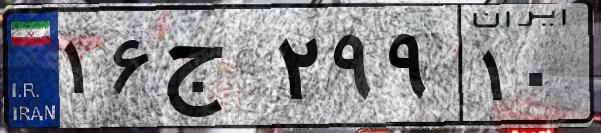0: (525, 38, 570, 115)
1: (57, 26, 110, 100), (475, 38, 525, 113)
2: (270, 28, 330, 110)
6: (110, 28, 158, 98)
9: (385, 28, 445, 110), (330, 28, 385, 110)
ج: (158, 20, 270, 120)
